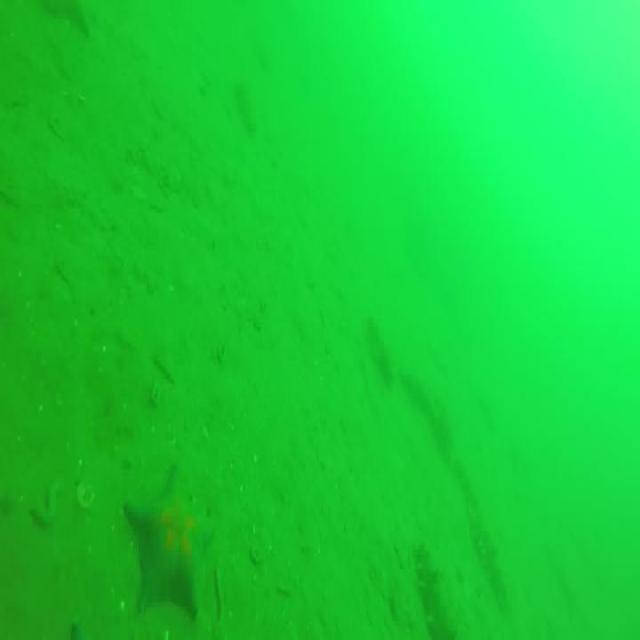holothurian: (409, 360, 515, 616), (417, 539, 459, 640)
scallop: (75, 479, 95, 512)
starfish: (121, 458, 218, 623)
